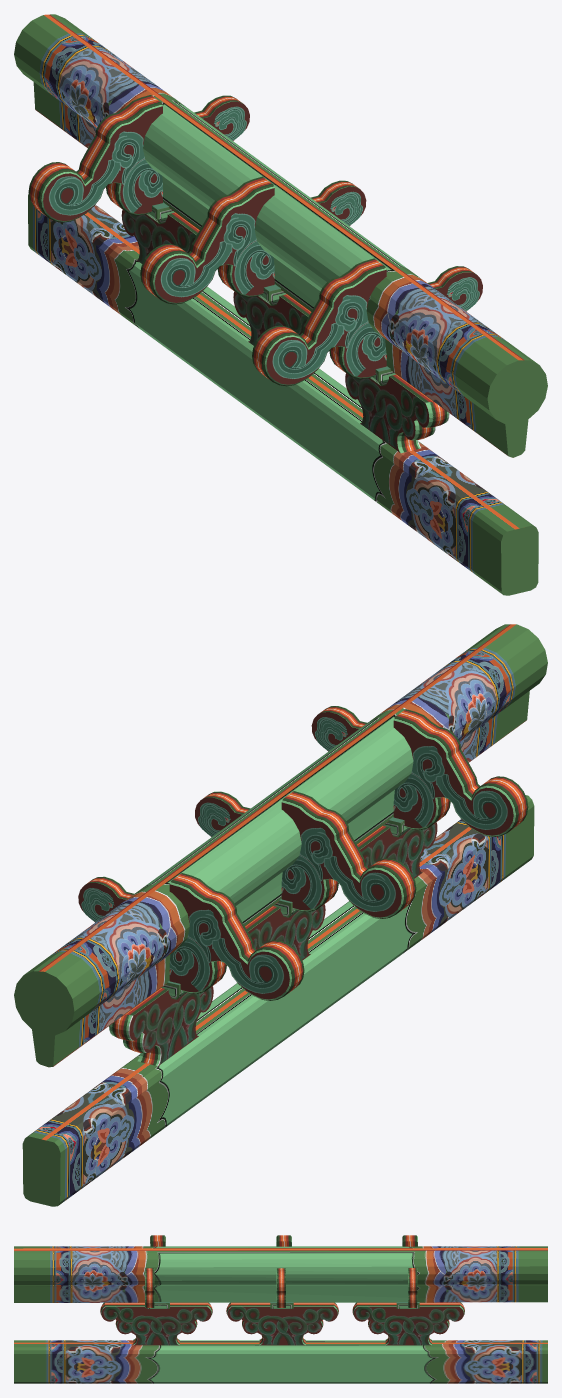
Rendered from SM_R_Dancheong_21.fbx.
3 views of the same model, one above another, from view 1: azimuth 30°, elevation 25°; view 2: azimuth 150°, elevation 25°; view 3: azimuth 270°, elevation 25° (orthographic). The views are drawn at different scales.
Visible parts, largest first — view 1: SM_R_Dancheong_21_LOD0; view 2: SM_R_Dancheong_21_LOD0; view 3: SM_R_Dancheong_21_LOD0.
Boxes of the visible parts, left/top/right/bottom form: SM_R_Dancheong_21_LOD0: left=14, top=14, right=547, bottom=595; SM_R_Dancheong_21_LOD0: left=14, top=624, right=547, bottom=1206; SM_R_Dancheong_21_LOD0: left=14, top=1235, right=547, bottom=1383.
Bounding box in the file's own units: 117 × 447 × 125.
Materials: 2 (2 with a texture image).
